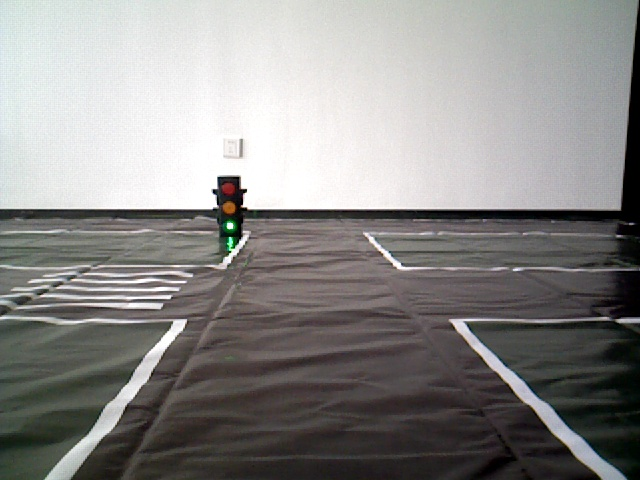green: (218, 181, 239, 230)
